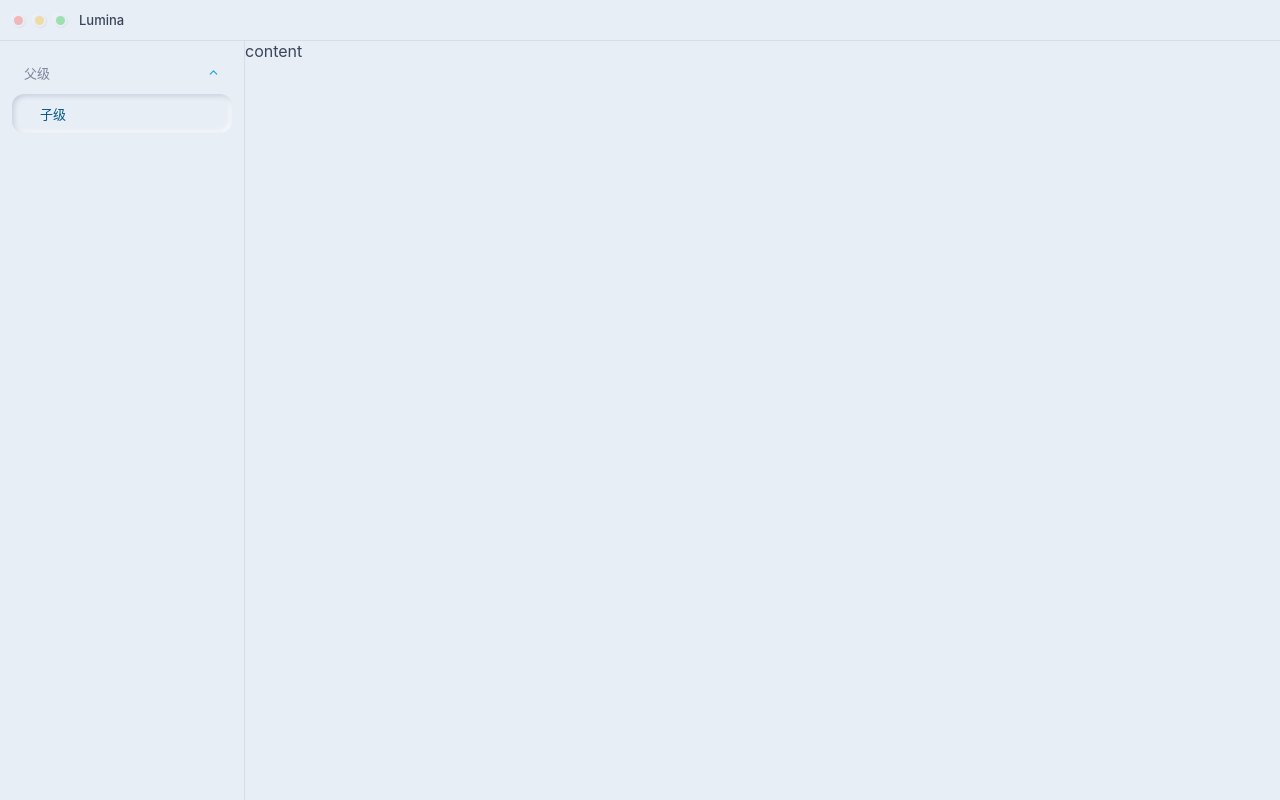
it: display component regressions › supports non-draggable title bars and nested accessible sidebars
The width and height of the screenshot is (1280, 800).
Click the button "父级" at (122, 72), box [12, 53, 232, 92]
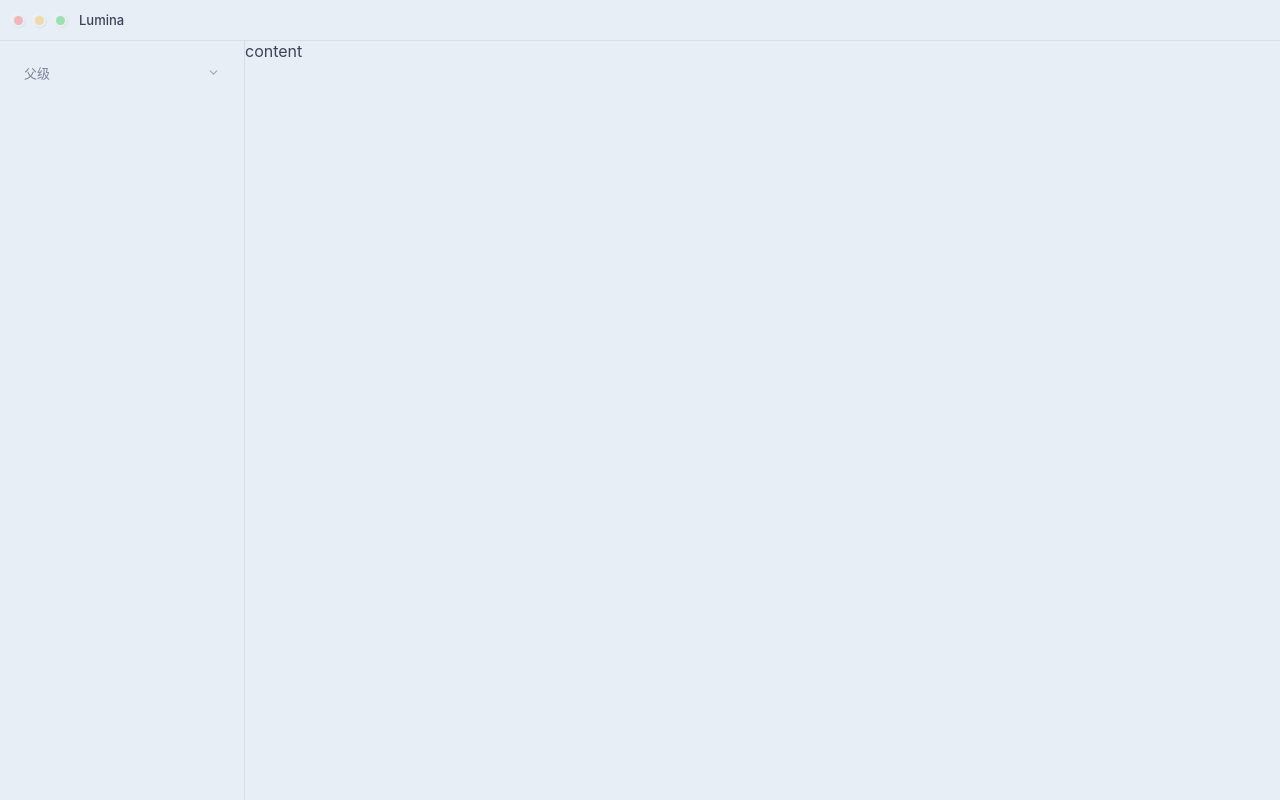
Result: the button "子级" is gone
